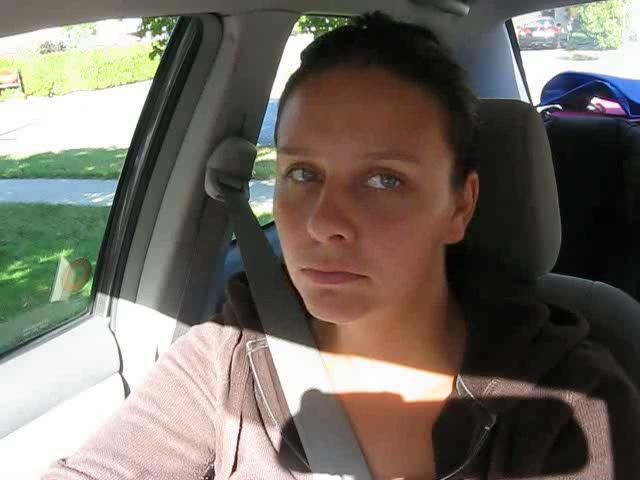no_yawn: (280, 250, 377, 304)
open_eyeL: (277, 157, 329, 194)
open_eyeR: (355, 161, 420, 203)
